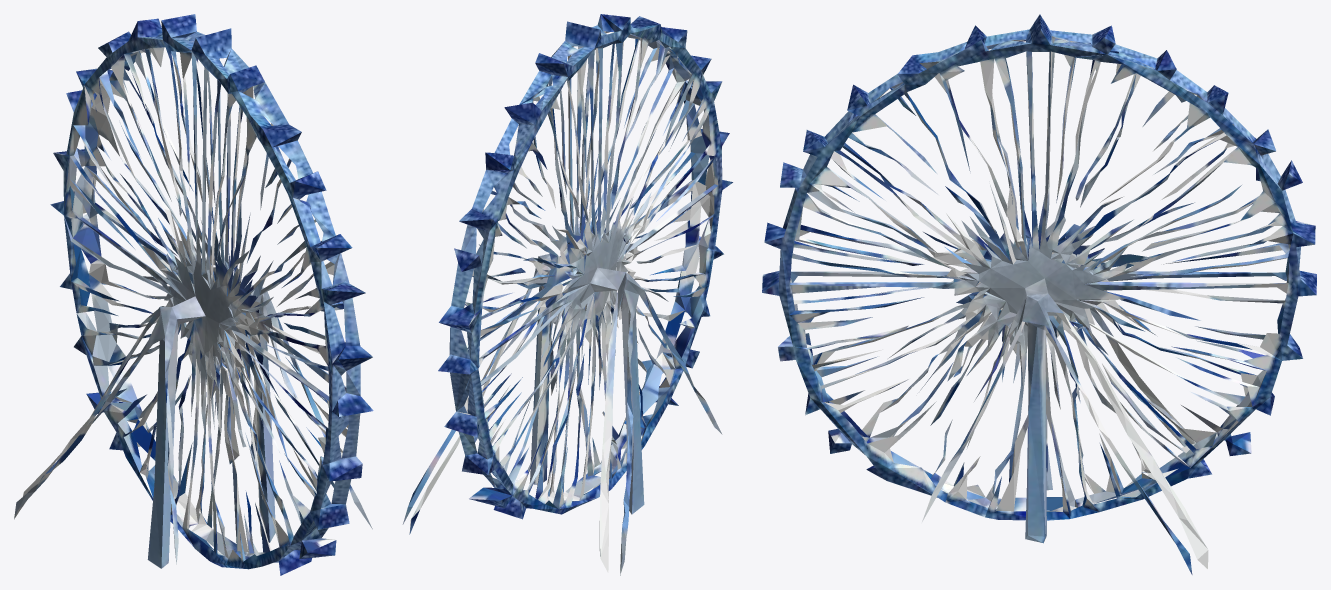
The model's file is singapore_flyer.glb.
3 renders of one model, left to right at view 1: azimuth 30°, elevation 25°; view 2: azimuth 150°, elevation 25°; view 3: azimuth 270°, elevation 25°, orthographic. The views are drawn at different scales.
Visible parts, largest first — view 1: tmpgl1l_630.ply; view 2: tmpgl1l_630.ply; view 3: tmpgl1l_630.ply.
Boxes of the visible parts, x1,y1,x2,y2 form: tmpgl1l_630.ply: (14,14,373,575); tmpgl1l_630.ply: (402,14,732,575); tmpgl1l_630.ply: (762,14,1316,574).
Bounding box in the file's own units: 0.9533 × 1.98 × 1.99.
Materials: 1 (1 with a texture image).
